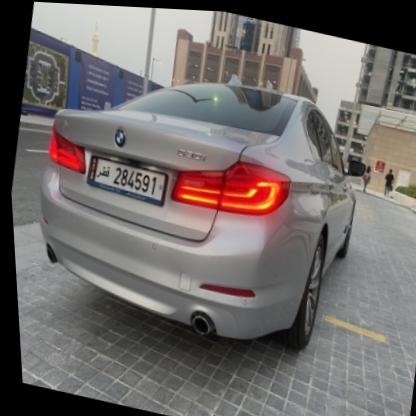np: (81, 149, 169, 205)
